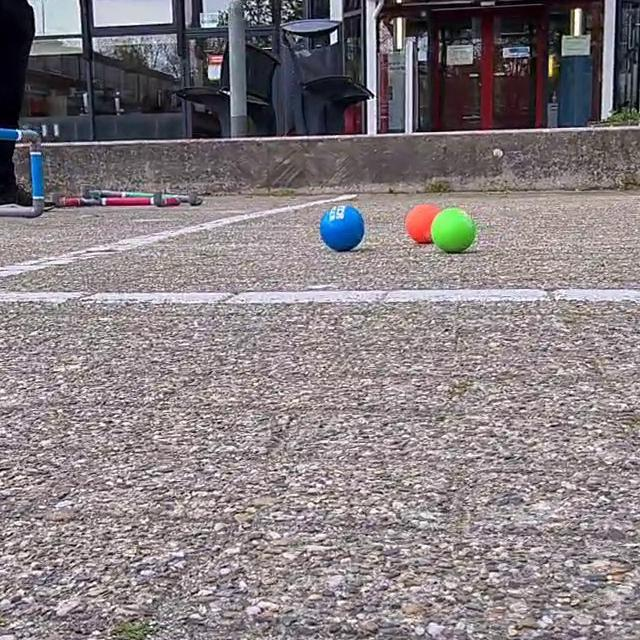ball: (316, 203, 368, 255), (429, 205, 480, 257), (402, 199, 447, 242)
